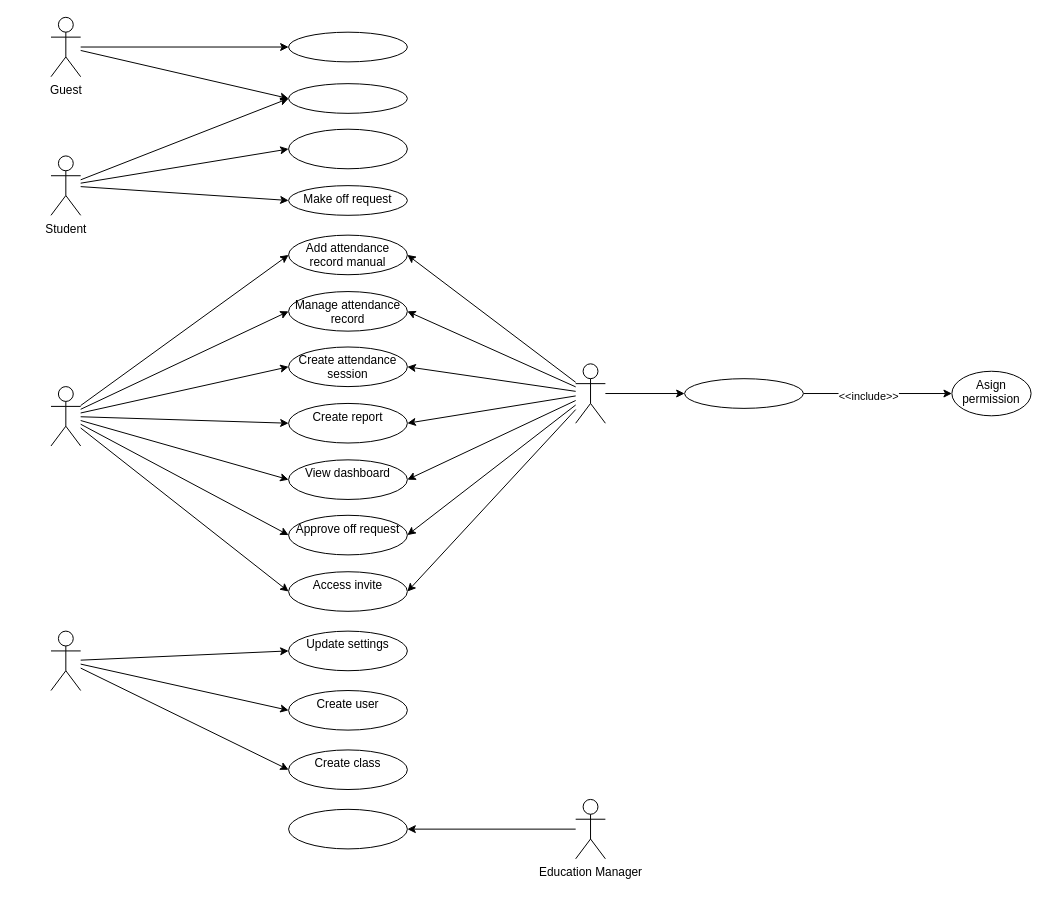
The diagram is 1048 pixels wide and 897 high, and some of its shapes have lost their labels. The box of each missing label's shape, as (x1, y1, x2, y2) in pixels:
Admin: (50, 630, 81, 691)
Assistant Teacher: (50, 386, 81, 446)
Checkin/Checkout: (288, 83, 407, 113)
Create report from various scopes: (288, 808, 407, 849)
Invite AT: (684, 378, 803, 408)
Login: (288, 31, 407, 62)
Teacher: (575, 363, 605, 423)
View attendance history: (288, 128, 407, 169)
